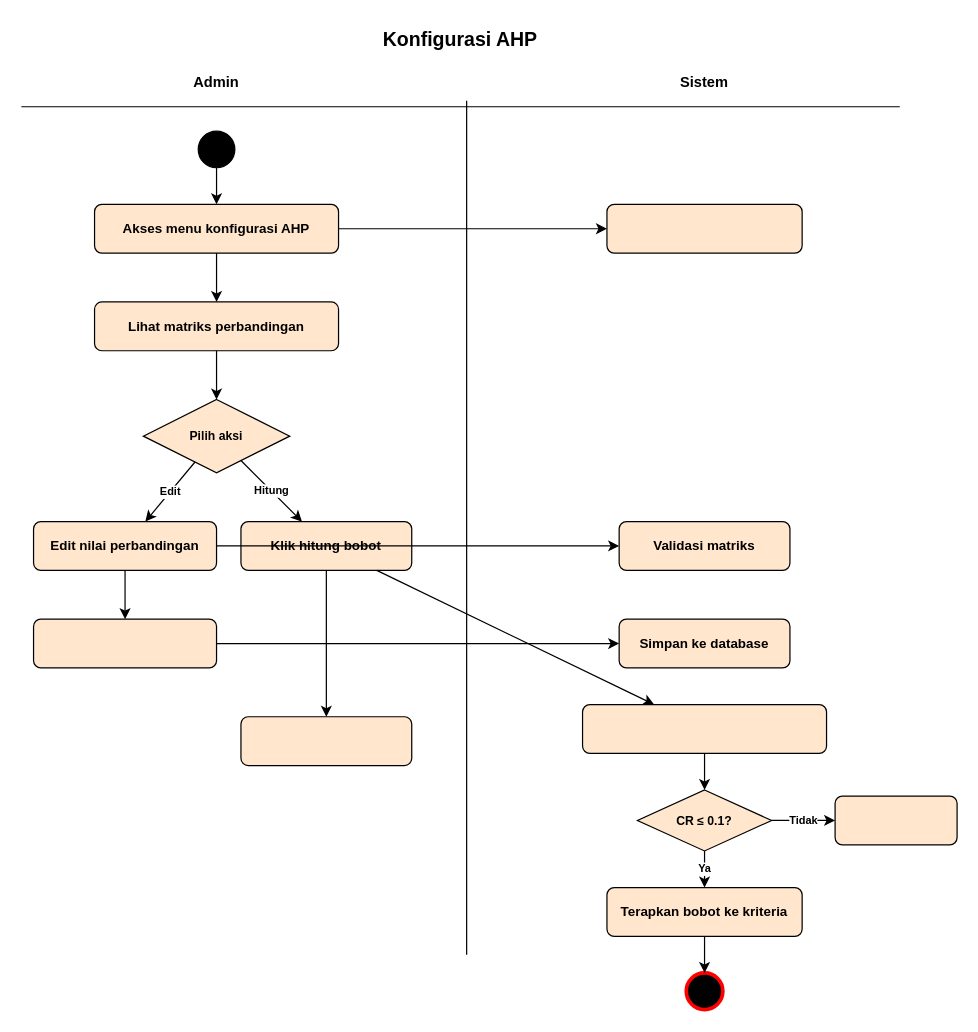
This 978x1032 diagram has some shape labels left out. The centre of each missing label's shape, as x and y in pixels:
Error: tidak konsisten: the point at 895,820
Hitung AHP dan Consistency Ratio: the point at 704,728
Simpan perbandingan: the point at 124,643
Tampilkan matriks kriteria: the point at 704,228
Terapkan bobot: the point at 326,741
